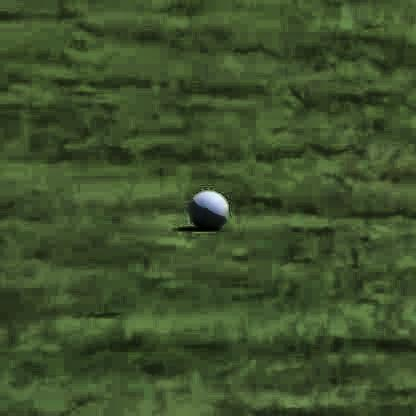golfball: (188, 185, 225, 224)
